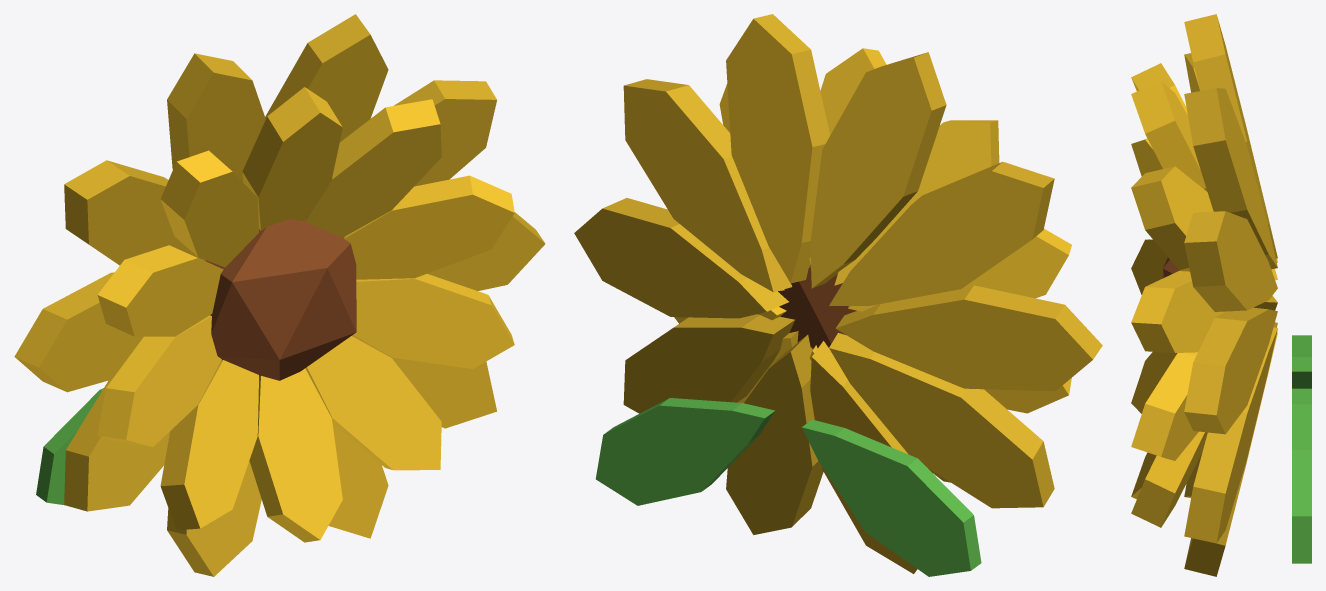
File: flower_yellow.glb
The picture shows the model from 3 angles, left to right: view 1: azimuth 30°, elevation 25°; view 2: azimuth 150°, elevation 25°; view 3: azimuth 270°, elevation 25°; orthographic projection. The views are drawn at different scales.
Parts seen in each view (by area): view 1: Petal; view 2: Petal; view 3: Petal.
Boxes of the visible parts, x1,y1,x2,y2 form: Petal: (14, 14, 545, 576); Petal: (574, 14, 1102, 576); Petal: (1131, 14, 1311, 576).
Size of the model in its own units: 0.8495 by 0.8079 by 0.2707.
